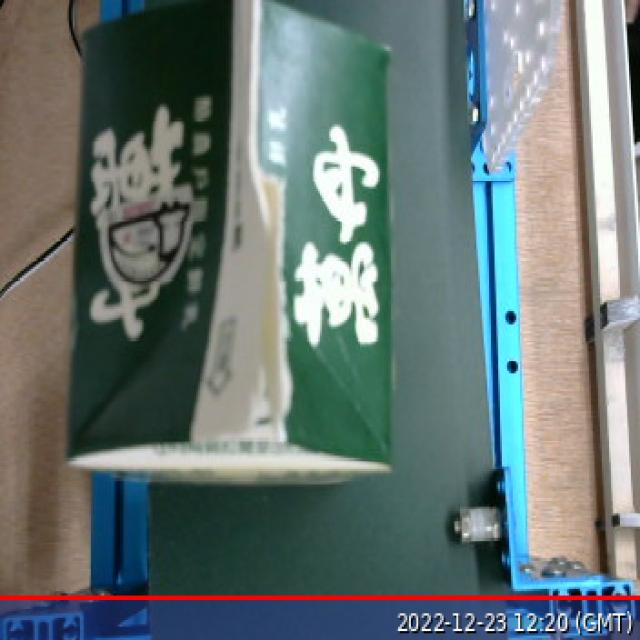non_white_jug: (53, 2, 409, 510)
